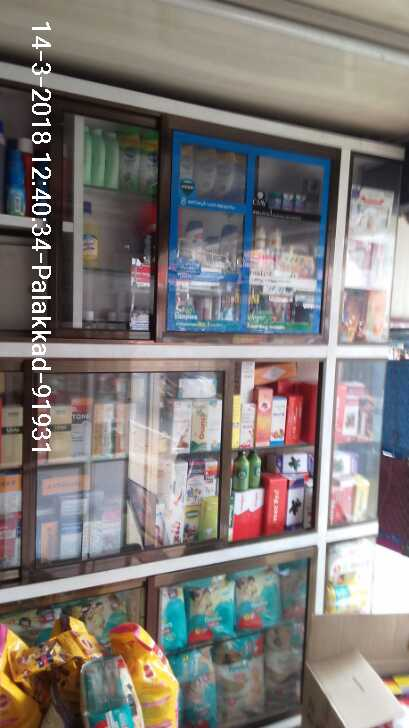vicks: (269, 189, 310, 211)
